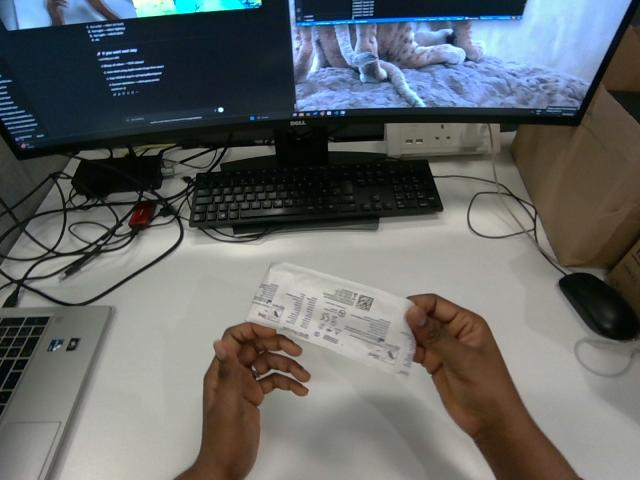syringe: (246, 263, 414, 376)
